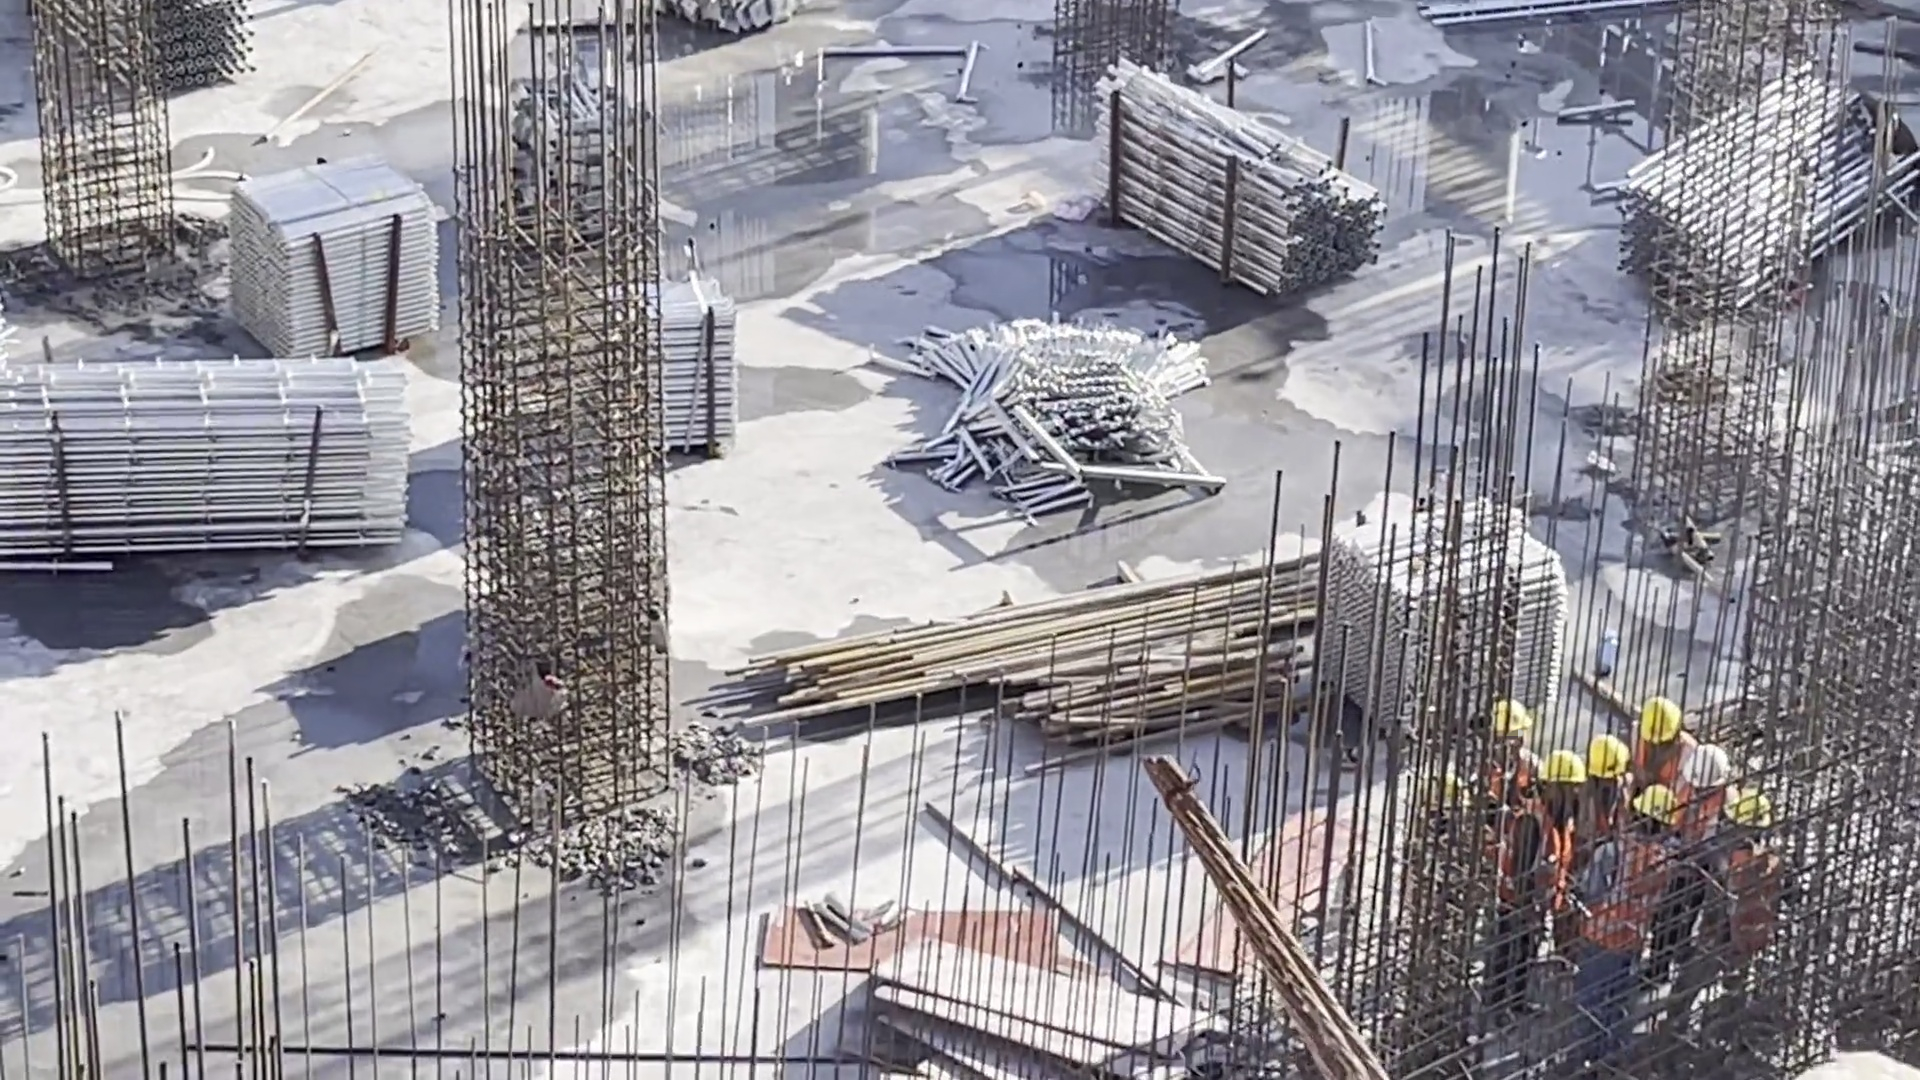helmet: (1634, 696, 1677, 750), (1687, 743, 1730, 794), (1542, 756, 1595, 792), (1590, 735, 1627, 787), (1633, 786, 1671, 831), (1729, 789, 1769, 828), (1488, 704, 1528, 734)
person: (1491, 747, 1588, 1032), (1582, 781, 1676, 1020), (1684, 793, 1774, 1029), (1568, 731, 1630, 860), (1665, 743, 1734, 854), (1622, 696, 1692, 796), (1471, 693, 1536, 802)
vest: (1506, 815, 1565, 958), (1608, 850, 1674, 974)
